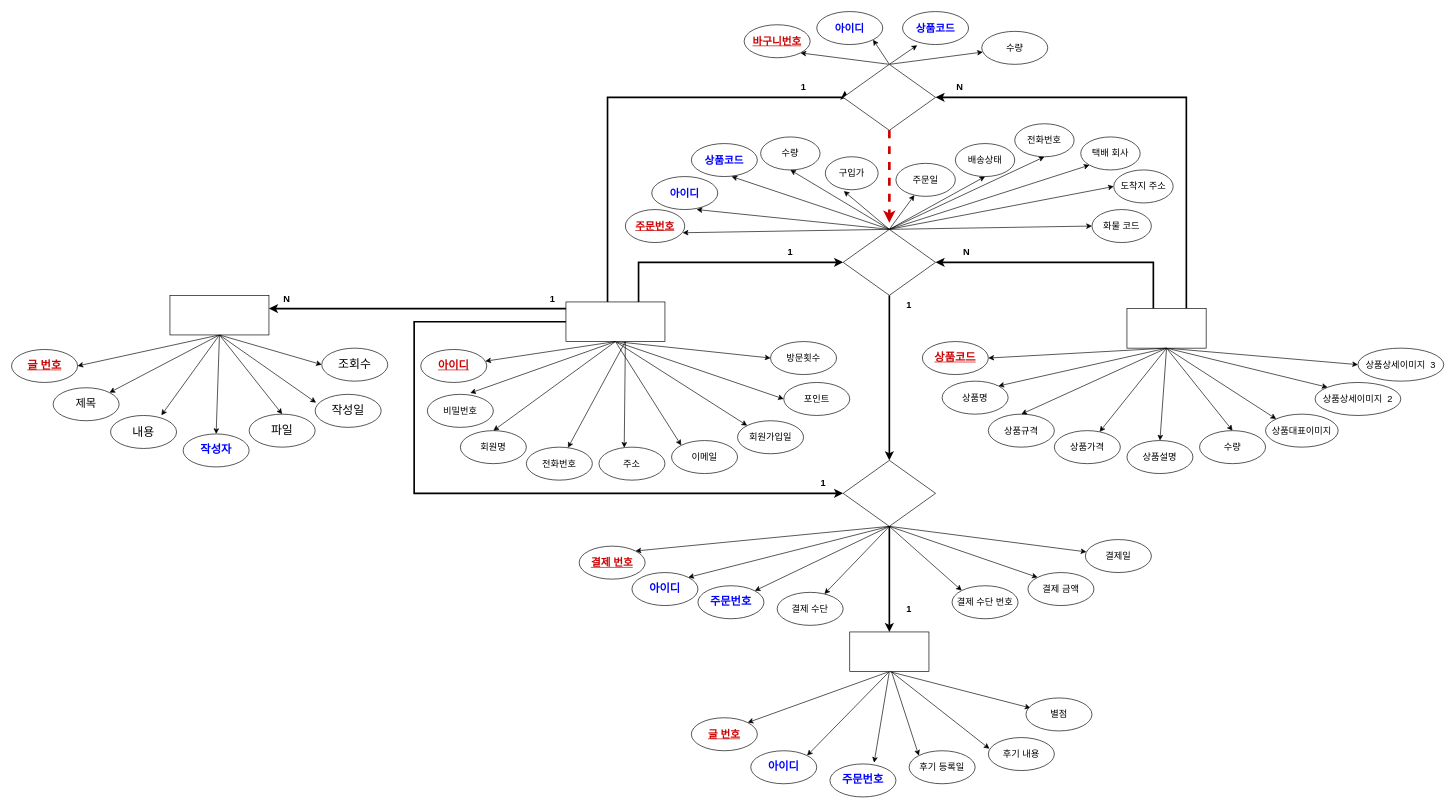
This 1455x809 diagram has some shape labels left out. The shapes that lost their labels are listed below. From the top down, each one's box as (x1, y1, x2, y2) in pixels, then its label:
(842, 64, 936, 130): 장바구니
(842, 229, 936, 295): 주문
(169, 295, 269, 335): 공지사항
(565, 301, 665, 342): 회원
(1126, 308, 1206, 348): 상품
(842, 460, 936, 526): 결제
(849, 631, 929, 672): 이용후기
